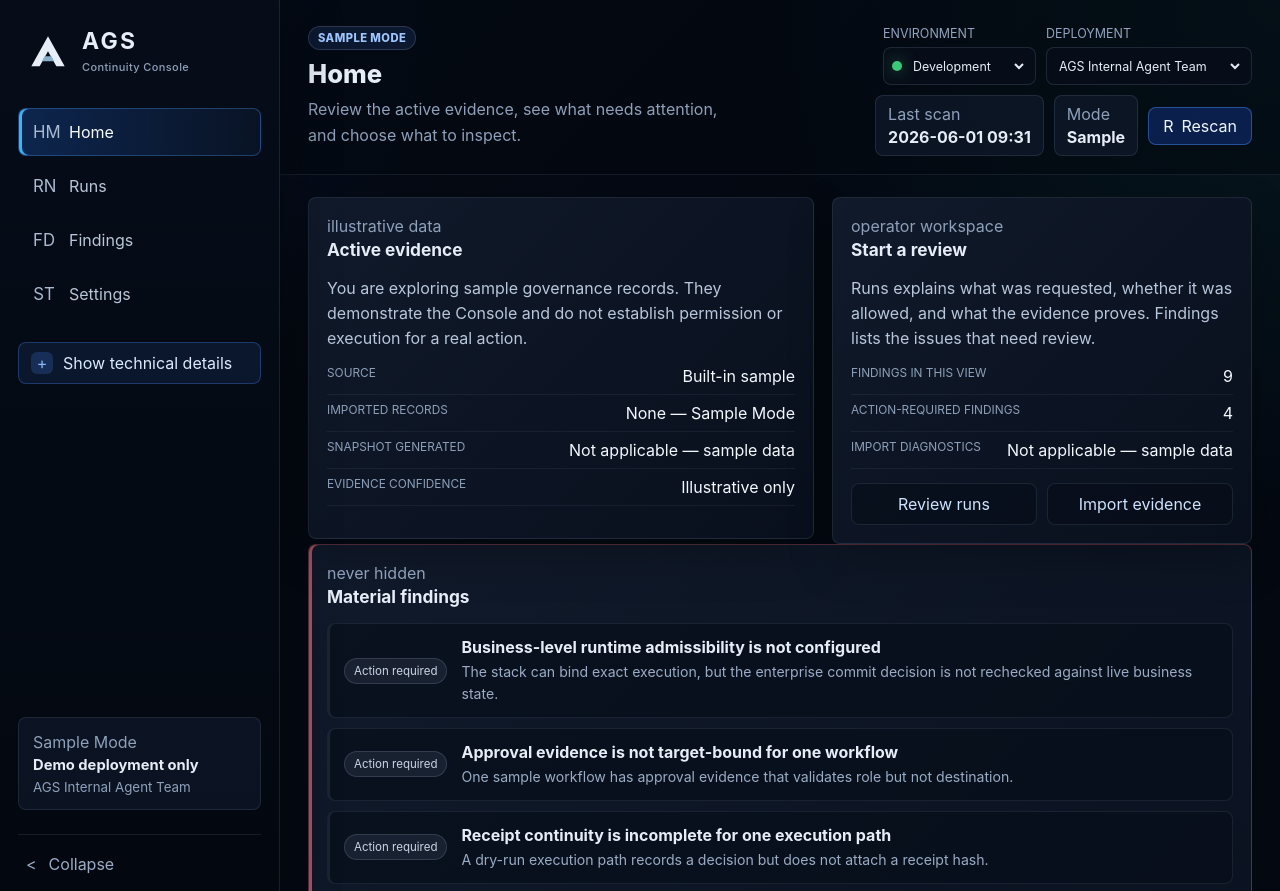
Scenario: Continuity Console operator shell › renders Reports and Settings from the simplified navigation
Click the button "+ Show technical details" at coordinates (140, 363), box [18, 342, 261, 384]
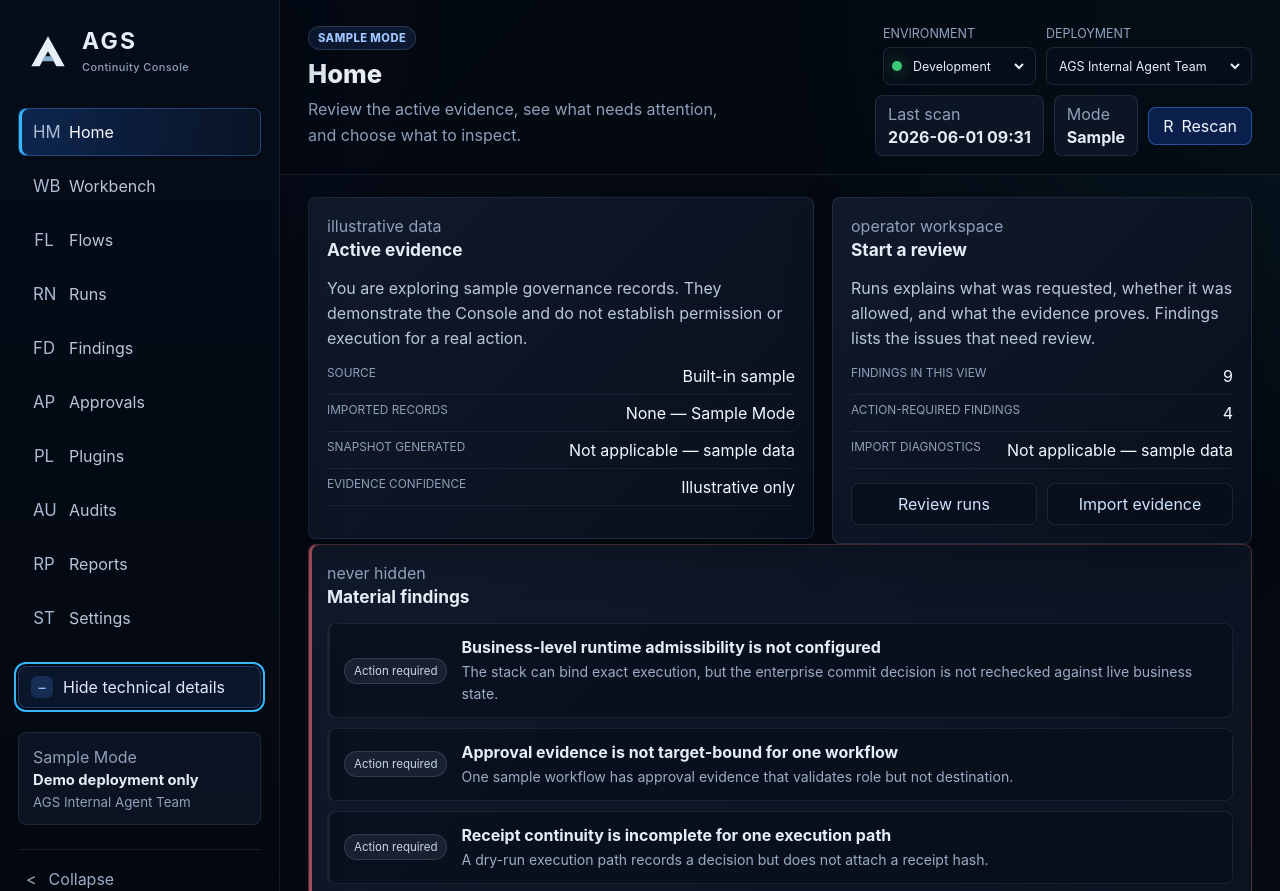
Click the button "Reports" at coordinates (140, 564), box [18, 540, 261, 588]
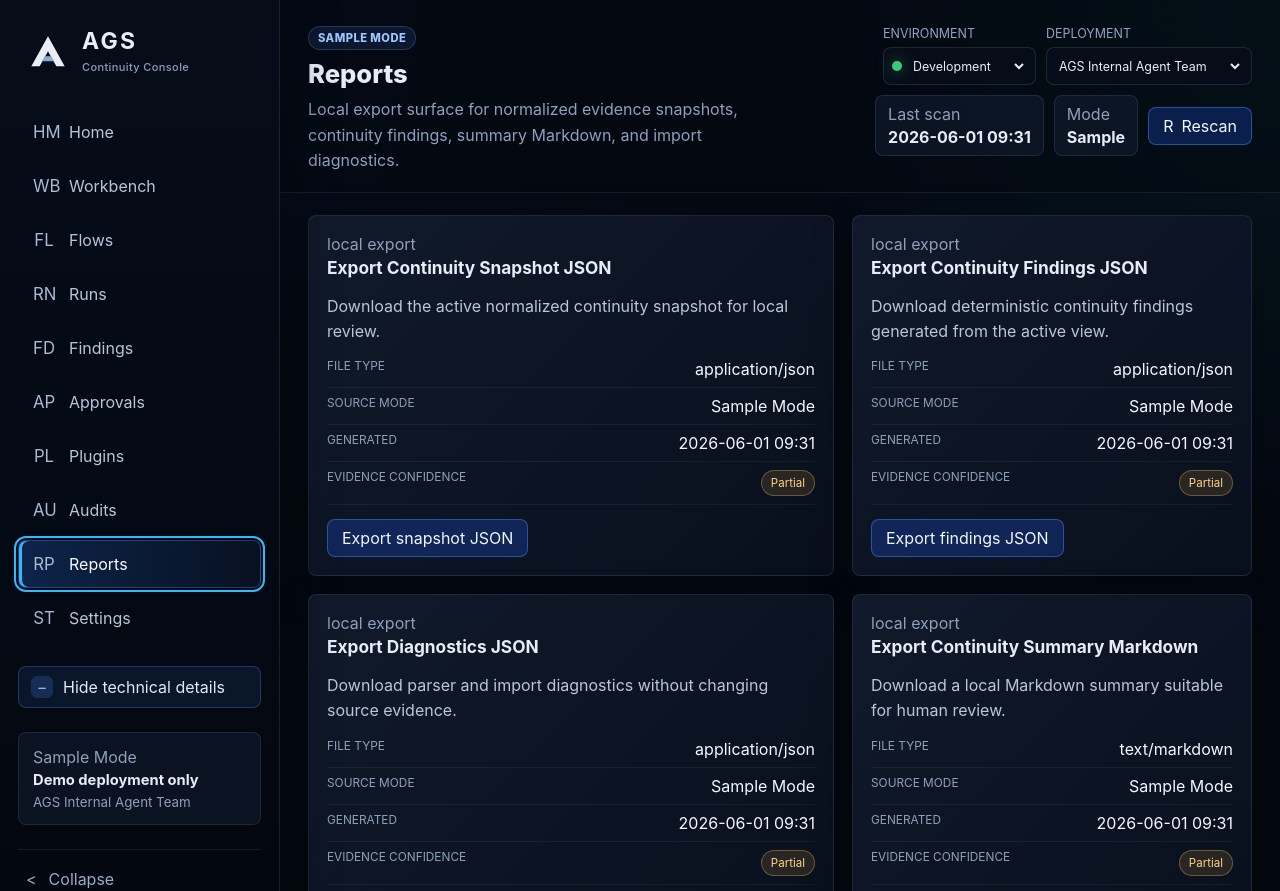
Check: the heading "Export Continuity Snapshot JSON" is shown, box [327, 257, 612, 278]
Click the button "Settings" at coordinates (140, 618), box [18, 594, 261, 642]
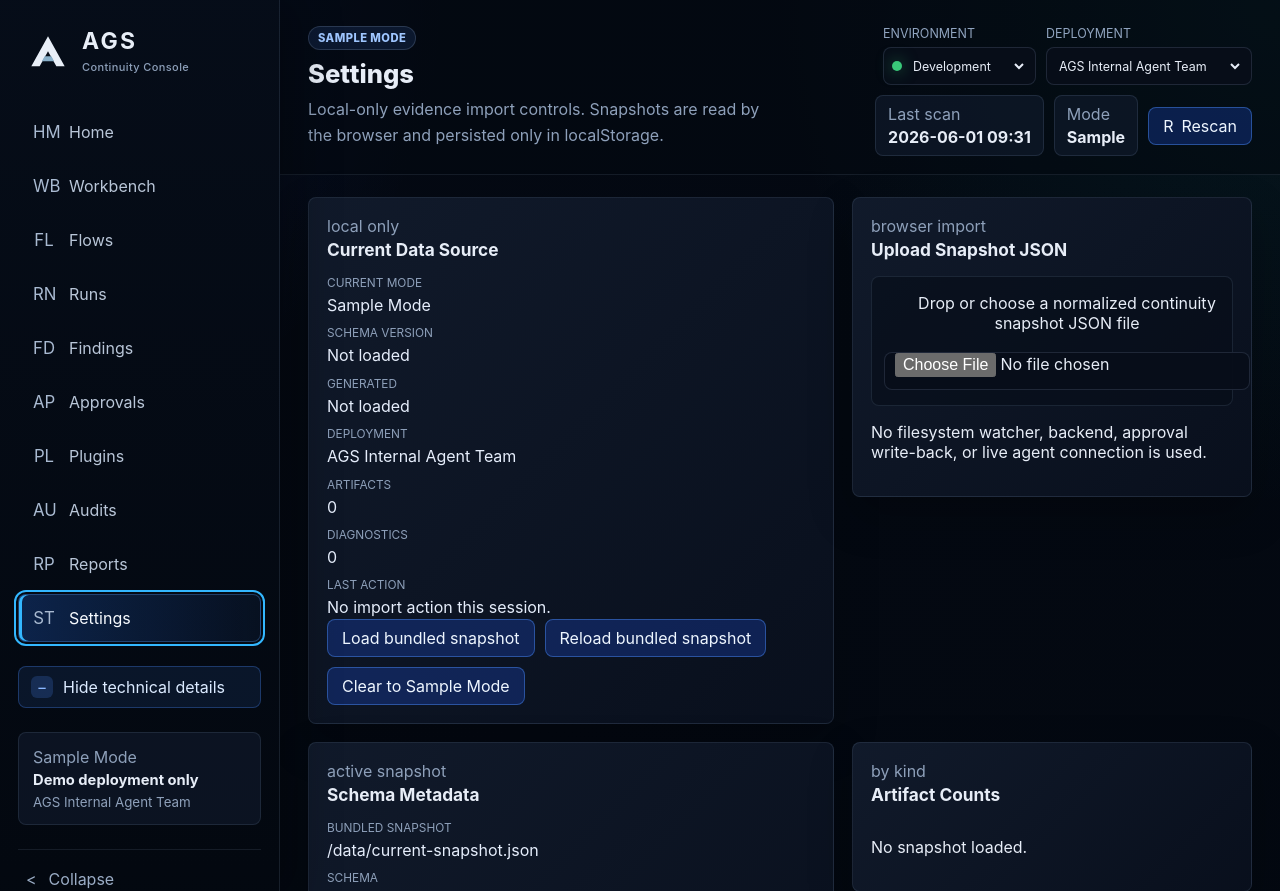
Check: the heading "Current Data Source" is shown, box [327, 239, 498, 260]
Check: the heading "Upload Snapshot JSON" is shown, box [871, 239, 1067, 260]
